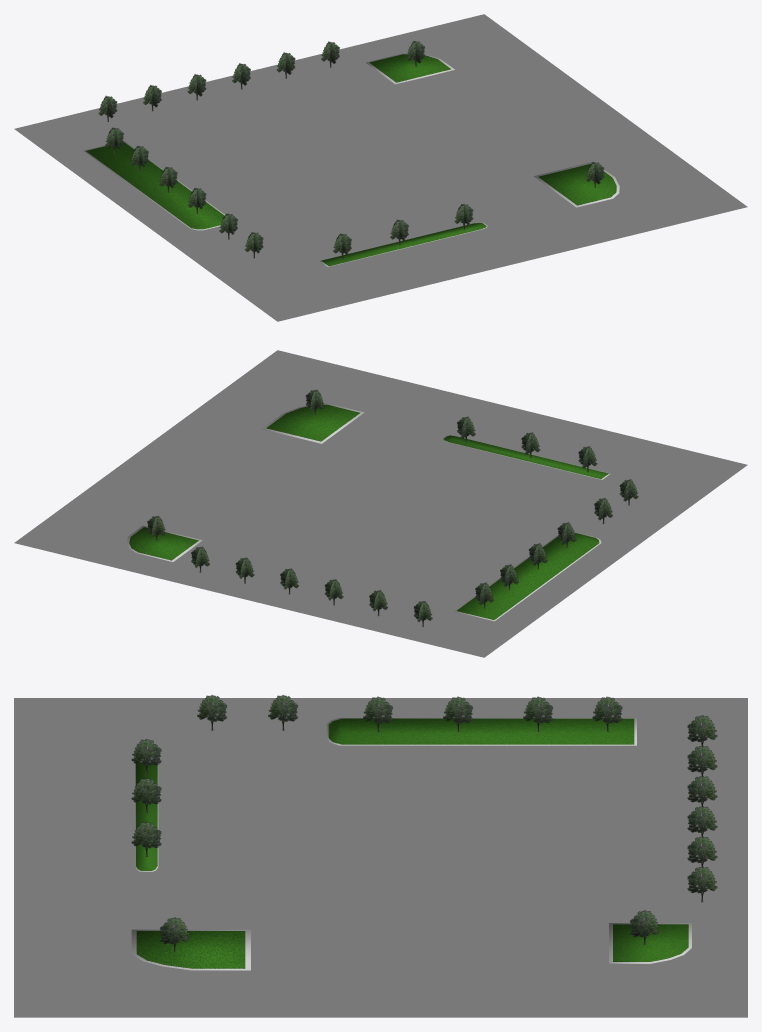
Rendered from wfa_0f_mini.gltf.
3 views of the same model, one above another, from view 1: azimuth 30°, elevation 25°; view 2: azimuth 150°, elevation 25°; view 3: azimuth 270°, elevation 25° (orthographic). The views are drawn at different scales.
Parts seen in each view (by area): view 1: dimian_21, dimian_13, dimian_20, dimian, dimian_37; view 2: dimian_21, dimian_13, dimian_20, dimian, dimian_37; view 3: dimian_21, dimian_13, dimian_20, dimian, dimian_37, dimian_12, dimian_29, dimian_5, dimian_22, dimian_9, dimian_11, dimian_33 (+13 smaller).
Boxes of the visible parts, x1,y1,x2,y2 form: dimian_21: [14, 14, 747, 321]; dimian_13: [86, 142, 224, 229]; dimian_20: [538, 163, 616, 205]; dimian: [369, 54, 450, 82]; dimian_37: [321, 223, 486, 266]; dimian_21: [14, 350, 747, 657]; dimian_13: [456, 533, 599, 619]; dimian_20: [266, 404, 359, 441]; dimian: [129, 527, 198, 560]; dimian_37: [444, 435, 608, 478]; dimian_21: [14, 698, 747, 1017]; dimian_13: [328, 718, 634, 744]; dimian_20: [136, 931, 245, 968]; dimian: [613, 924, 688, 961]; dimian_37: [136, 762, 157, 870]; dimian_12: [326, 718, 636, 745]; dimian_29: [131, 929, 250, 970]; dimian_5: [523, 696, 553, 731]; dimian_22: [197, 695, 227, 730]; dimian_9: [363, 696, 392, 731]; dimian_11: [268, 695, 297, 730]; dimian_33: [687, 866, 717, 902].
Size of the model in its own units: 229 by 13.02 by 222.
5 materials, 3 textured.
